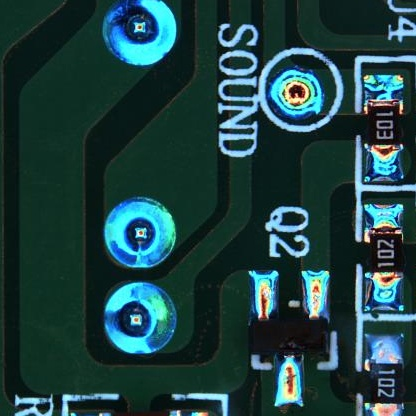spot: (104, 278, 178, 353), (102, 195, 177, 267), (102, 1, 179, 70), (267, 68, 324, 120)
